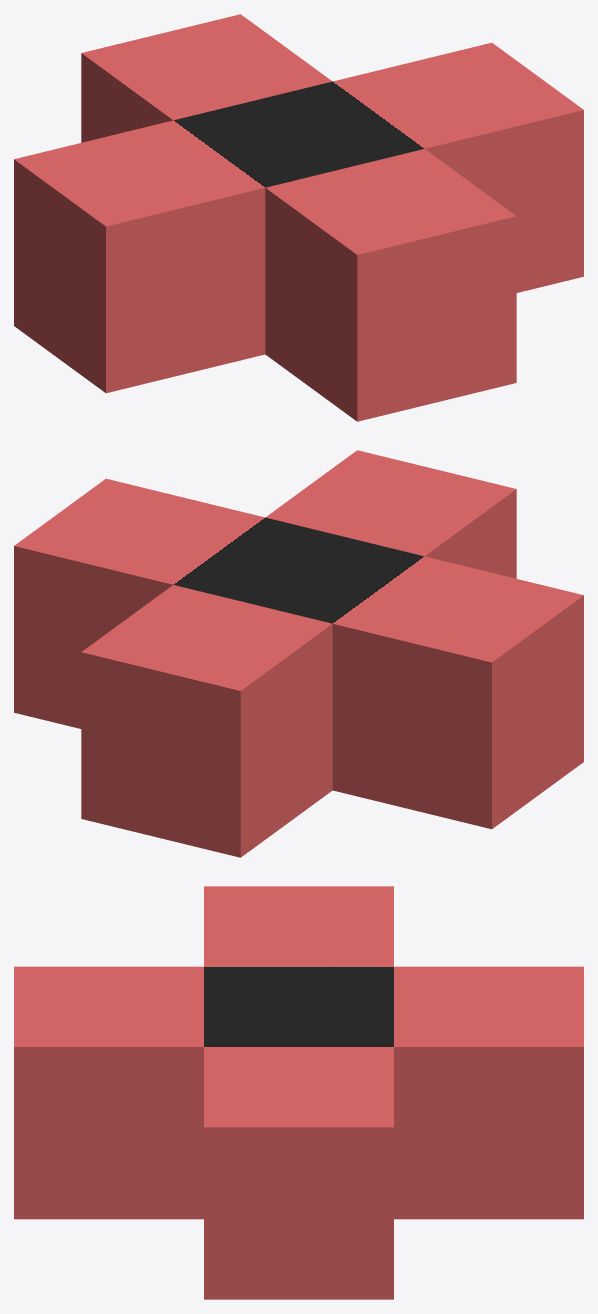
Rendered from flower6.obj.
3 views of the same model, one above another, from view 1: azimuth 30°, elevation 25°; view 2: azimuth 150°, elevation 25°; view 3: azimuth 270°, elevation 25° (orthographic). The views are drawn at different scales.
Parts seen in each view (by area): view 1: PlumpStandardMushroom_15; view 2: PlumpStandardMushroom_15; view 3: PlumpStandardMushroom_15.
Part boxes in pixels (<box>): PlumpStandardMushroom_15: <box>14,14,583,421</box>; PlumpStandardMushroom_15: <box>14,450,583,857</box>; PlumpStandardMushroom_15: <box>14,886,583,1299</box>.
Bounding box in the file's own units: 3 × 1 × 3.
Materials: 1 (1 with a texture image).
